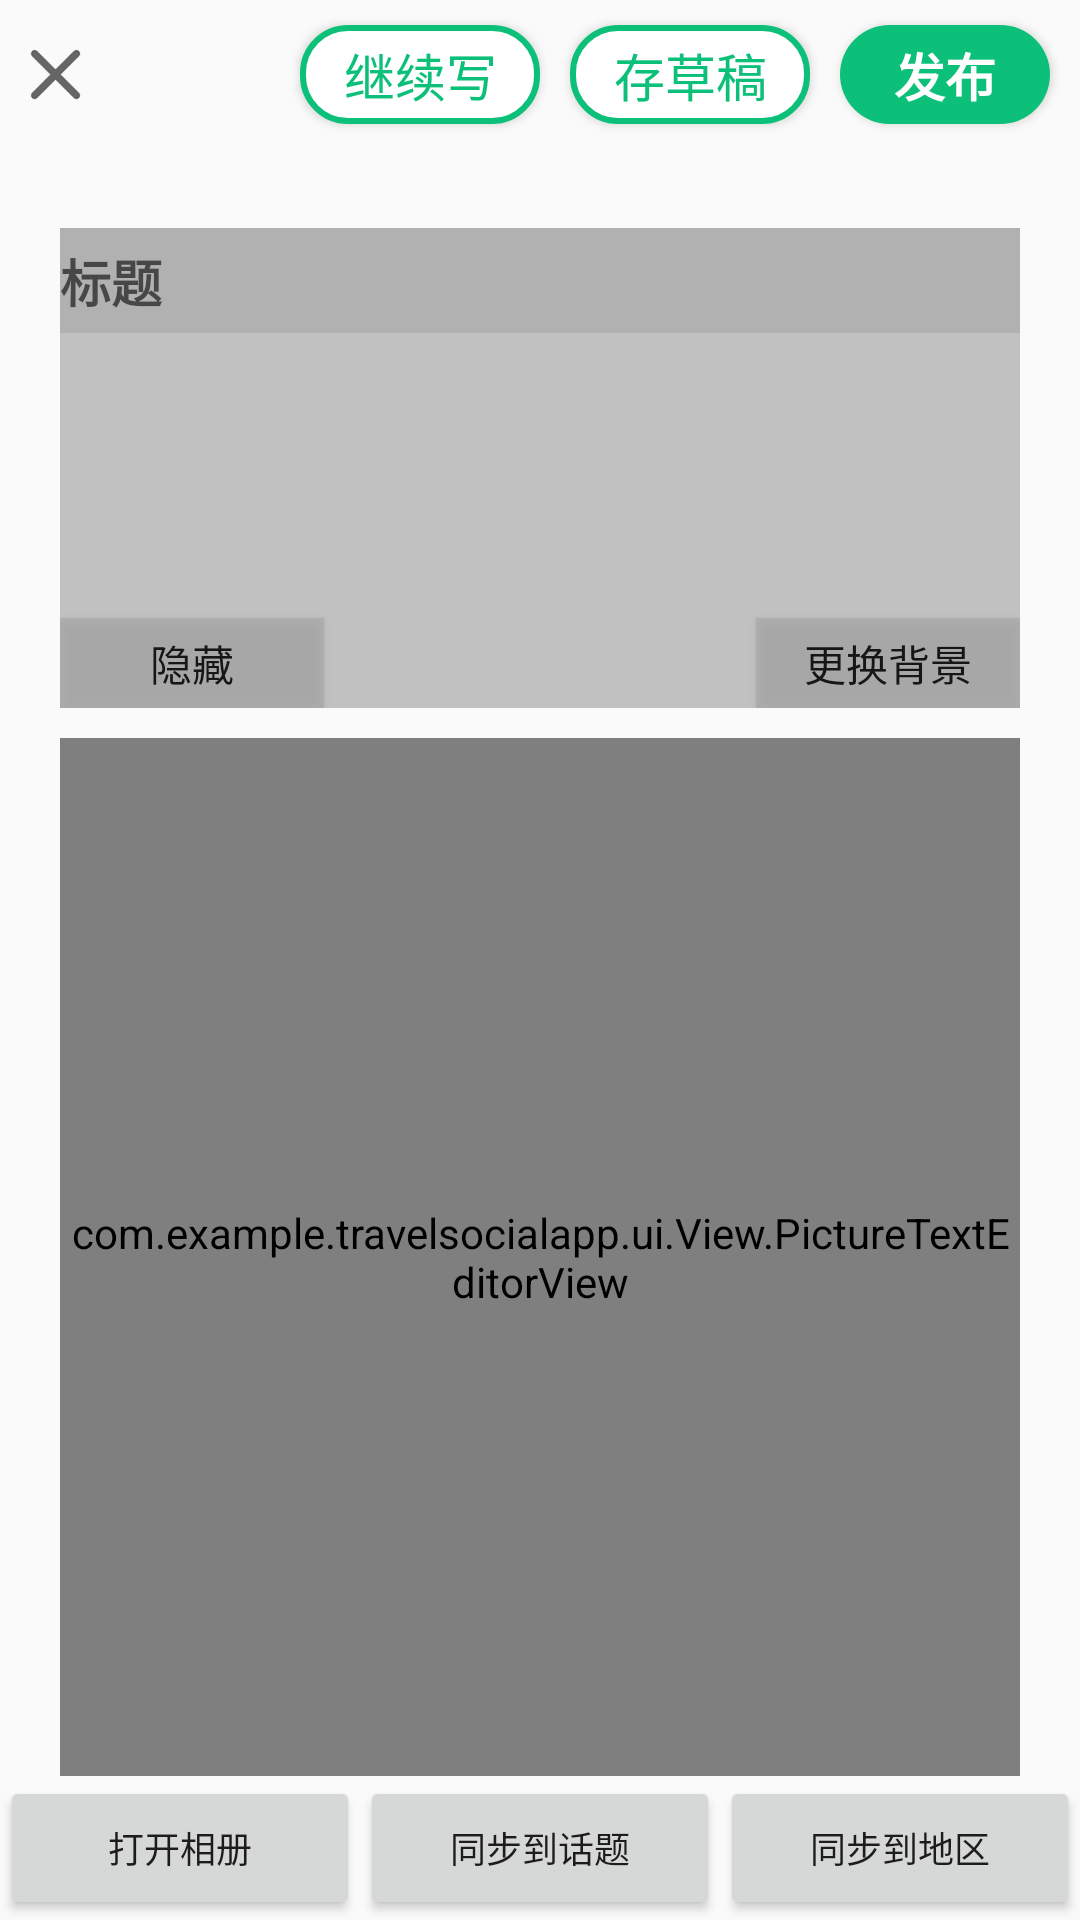

Point at icon controls on the screen. Image size 1080 x 1920, points as [x,y].
exit: [55,74]
